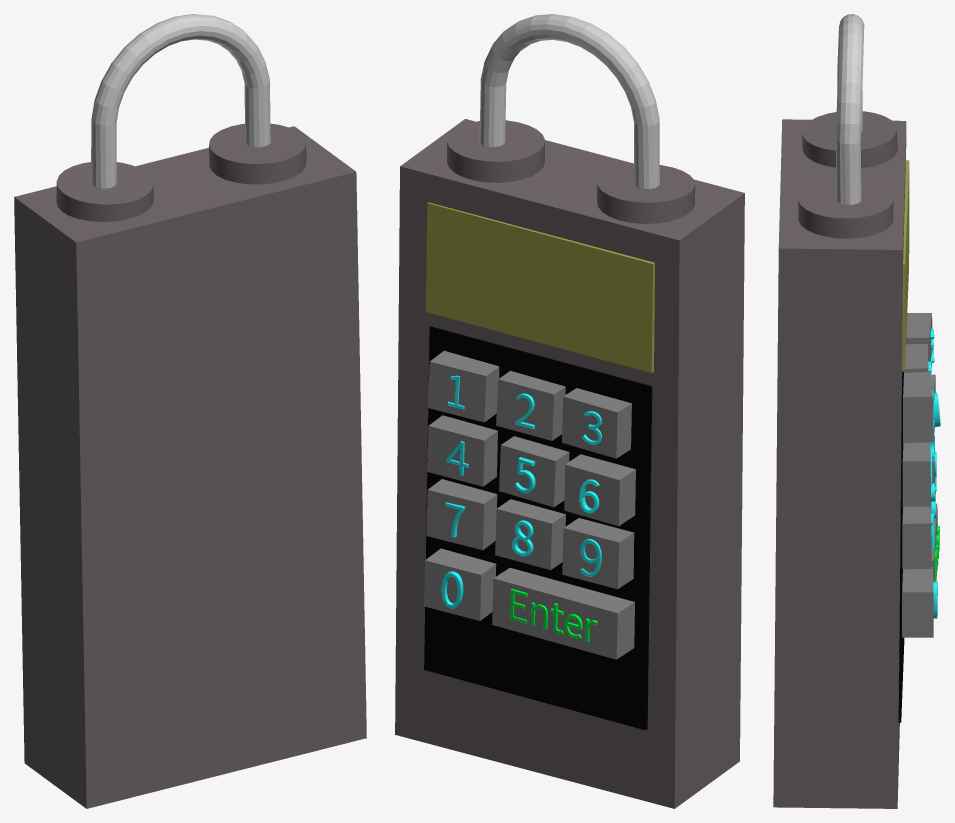
The model's file is Basic digit lock 1.fbx.
3 renders of one model, left to right at view 1: azimuth 30°, elevation 25°; view 2: azimuth 150°, elevation 25°; view 3: azimuth 270°, elevation 25°, orthographic. The views are drawn at different scales.
Visible parts, largest first — view 1: 94a7c0be-516a-4028-b770-8b11d8bf3b81; view 2: 94a7c0be-516a-4028-b770-8b11d8bf3b81; view 3: 94a7c0be-516a-4028-b770-8b11d8bf3b81.
Boxes of the visible parts, box(x1,y1,x2,y2) form: 94a7c0be-516a-4028-b770-8b11d8bf3b81: box(14, 14, 366, 808); 94a7c0be-516a-4028-b770-8b11d8bf3b81: box(395, 14, 744, 808); 94a7c0be-516a-4028-b770-8b11d8bf3b81: box(773, 14, 940, 808).
Size of the model in its own units: 13470 by 32835 by 6924.
